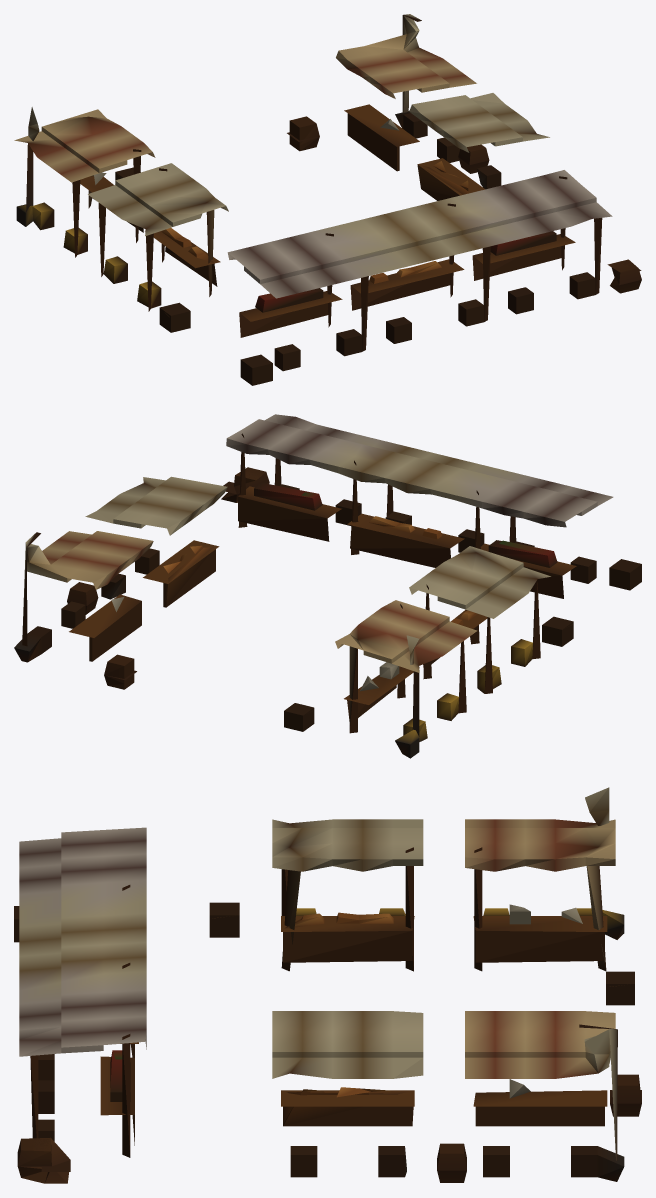
File: Market.glb
3 renders of one model, top to bottom at view 1: azimuth 30°, elevation 25°; view 2: azimuth 150°, elevation 25°; view 3: azimuth 270°, elevation 25°, orthographic. The views are drawn at different scales.
Parts seen in each view (by area): view 1: Market_P0_LOD1; view 2: Market_P0_LOD1; view 3: Market_P0_LOD1.
Part boxes in pixels (bbox=[...]): Market_P0_LOD1: bbox=[14, 14, 641, 385]; Market_P0_LOD1: bbox=[14, 414, 641, 758]; Market_P0_LOD1: bbox=[14, 787, 641, 1183].
Bounding box in the file's own units: 11.56 × 3.18 × 11.74.
